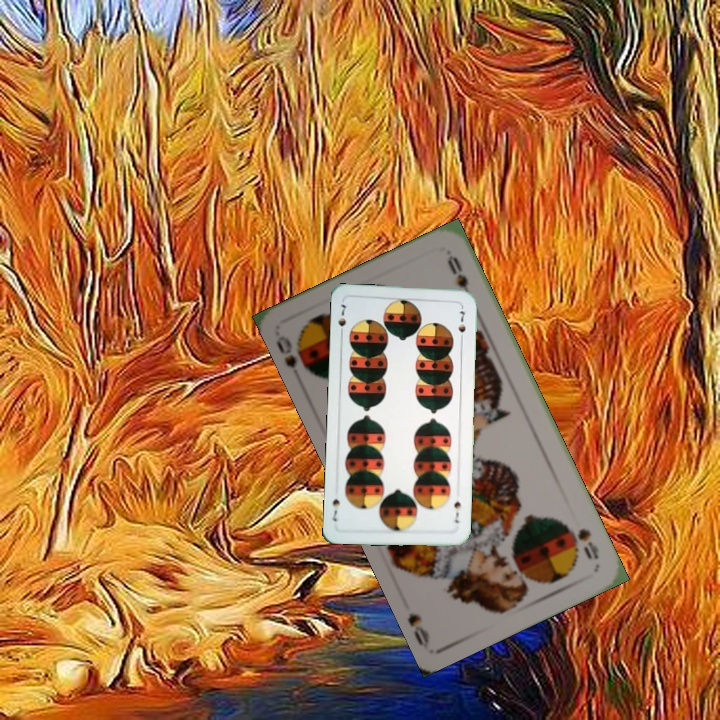S7: (334, 300, 349, 339), (450, 498, 463, 526)
SO: (272, 331, 318, 379), (567, 524, 602, 562)
